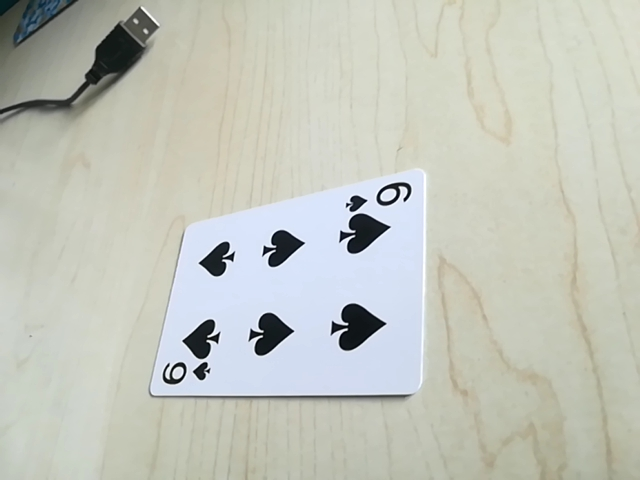ht 6: (342, 179, 414, 213), (154, 358, 215, 392)
